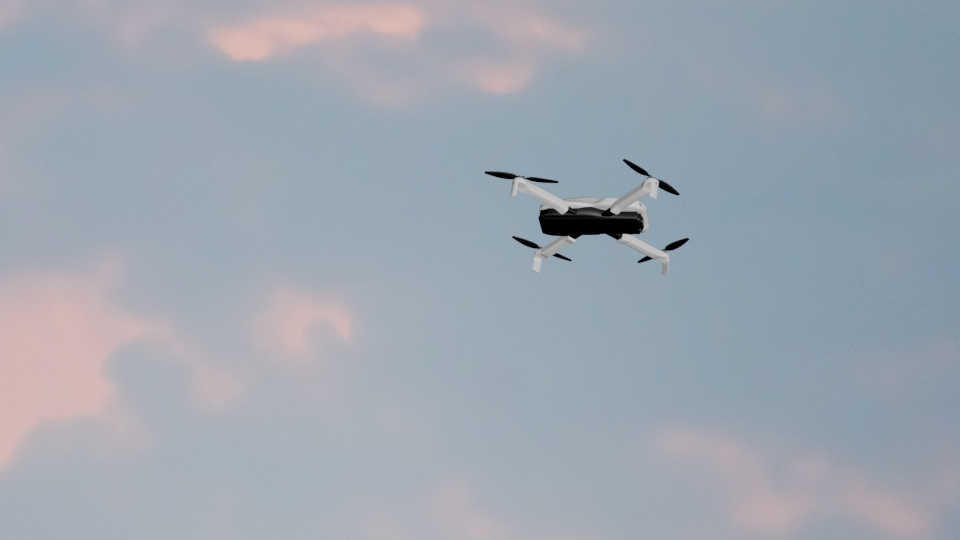drone: (485, 156, 693, 274)
